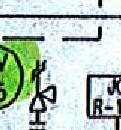psv: (28, 59, 58, 126)
